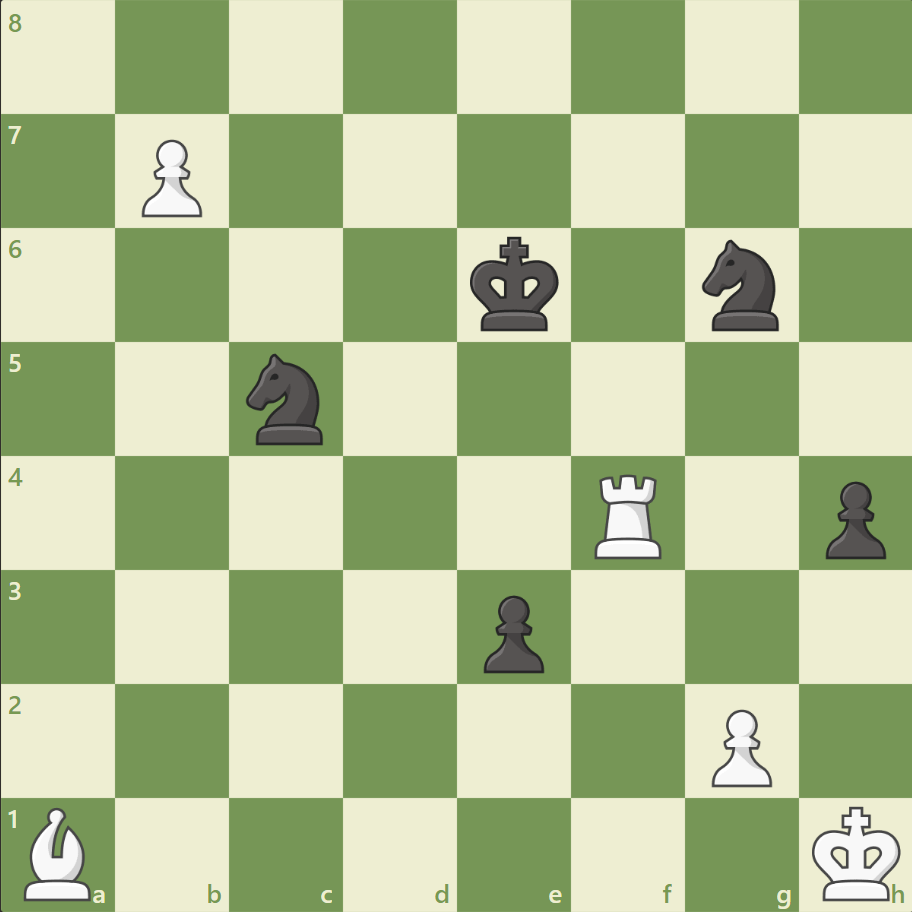B: (17, 801, 101, 904)
K: (806, 798, 906, 906)
P: (133, 132, 208, 223), (701, 700, 776, 791)
R: (587, 466, 670, 563)
k: (465, 231, 565, 339)
n: (692, 234, 789, 337), (238, 348, 335, 450)
p: (474, 586, 549, 677), (815, 473, 889, 564)
